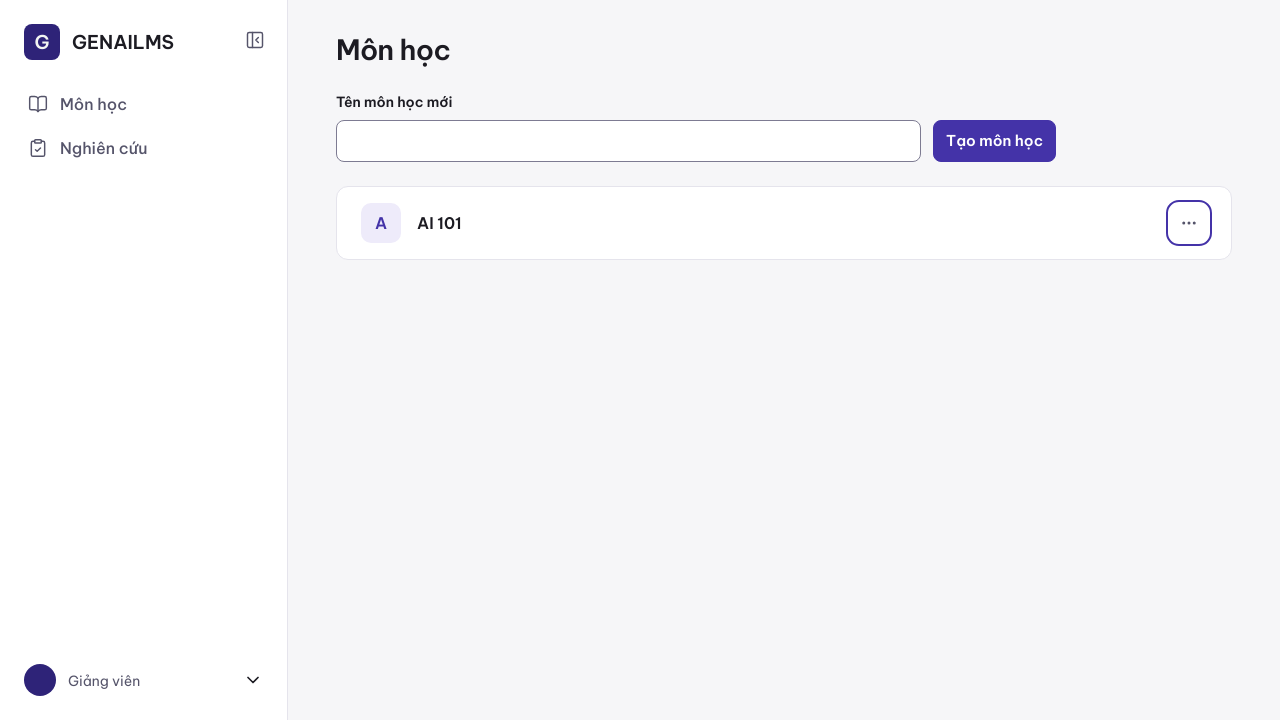
Test case: CoursesPage - delete › says why the course was not deleted, and keeps it in the list
Step 1. Press Enter
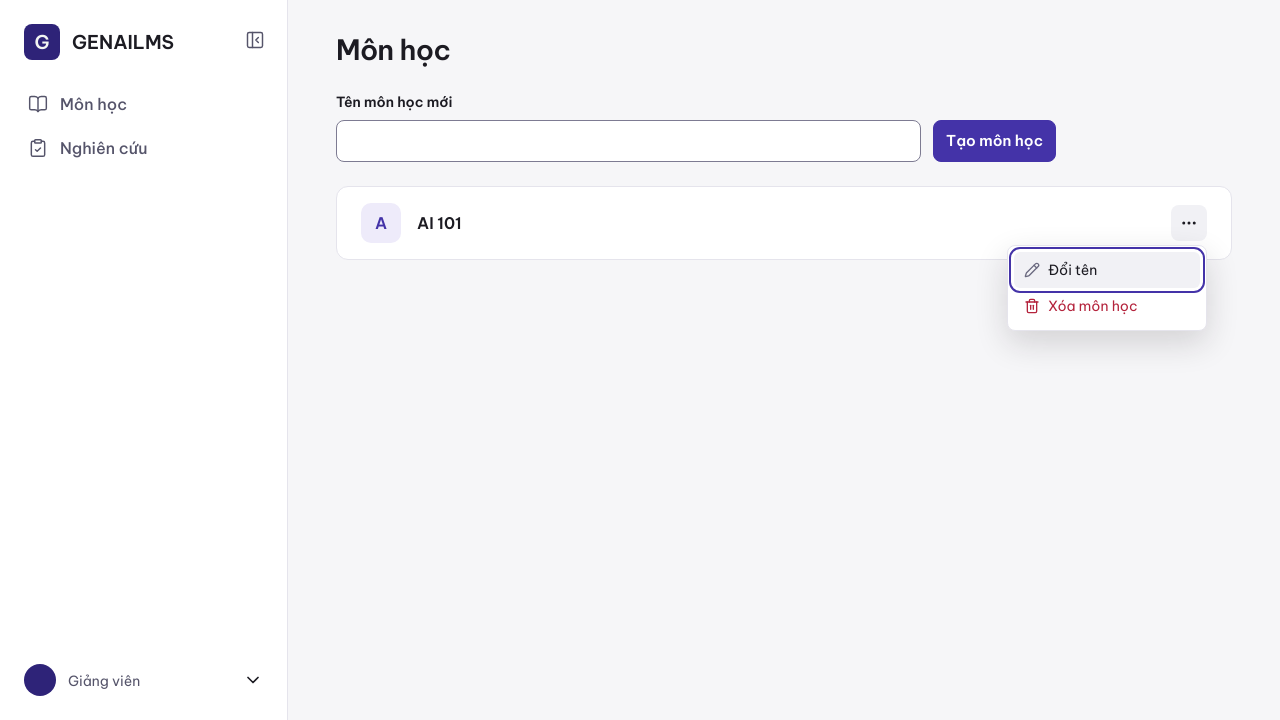
Step 2. Click the menu item "Xóa môn học" → [1081, 306], box [1024,297,1138,315]
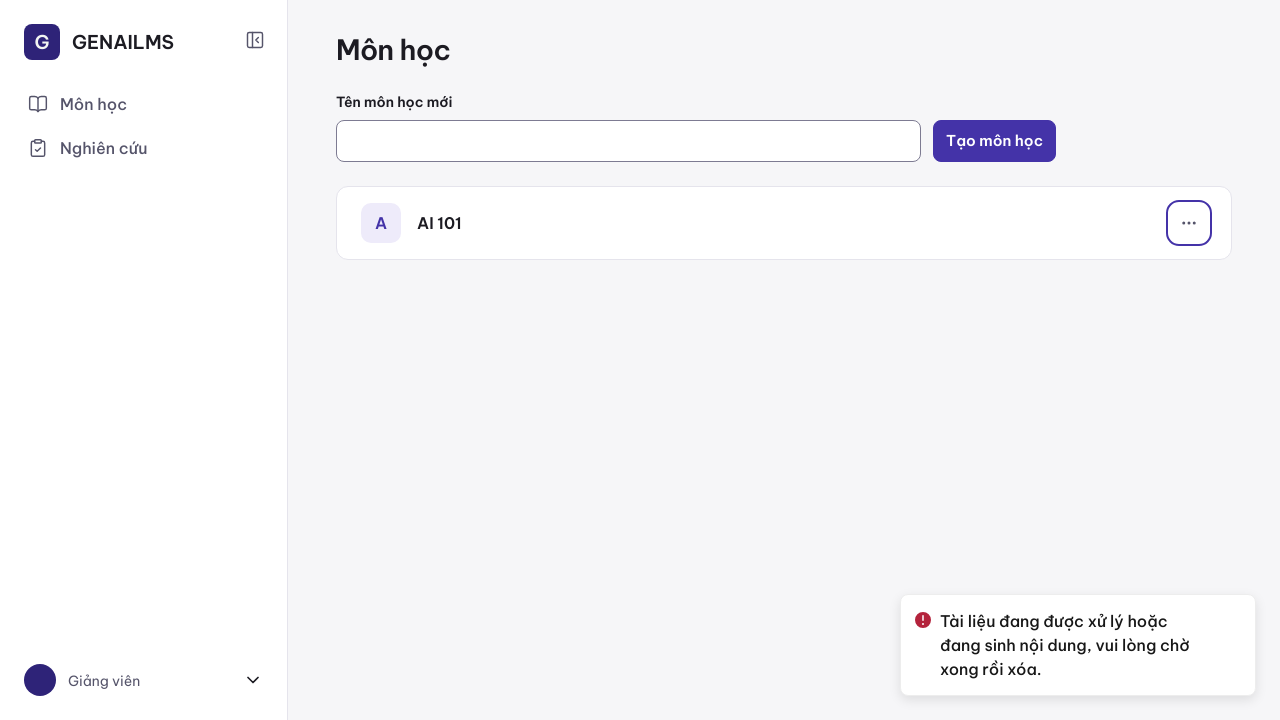
Expected: the link "AI 101" is shown, [417,213,462,233]
Expected: the text "Tài liệu đang được xử lý hoặc đang sinh nội dung, vui lòng chờ xong rồi xóa." is shown, [940,609,1211,681]
